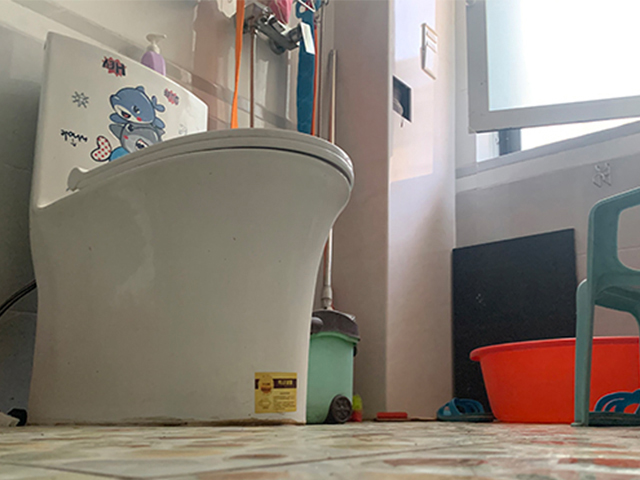closestool: (26, 31, 354, 424)
slippers: (587, 389, 640, 427), (436, 396, 495, 422)
stool: (572, 185, 640, 426)
